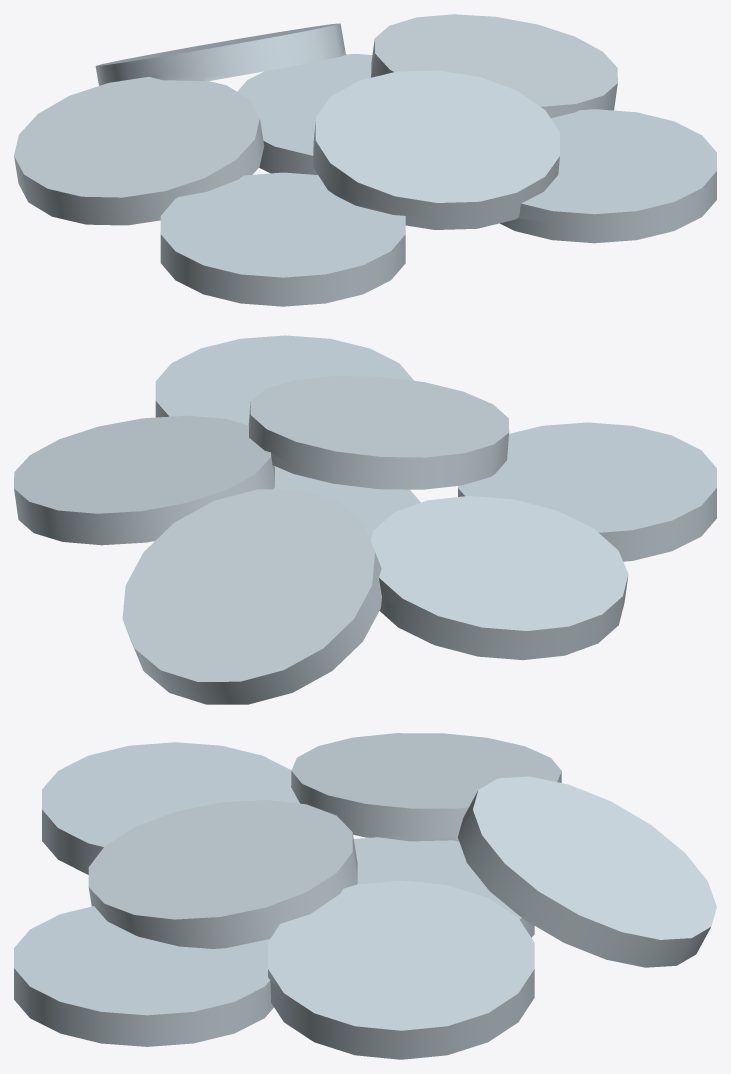
Rendered from Coin Pile.fbx.
The picture shows the model from 3 angles, top to bottom: view 1: azimuth 30°, elevation 25°; view 2: azimuth 150°, elevation 25°; view 3: azimuth 270°, elevation 25°; orthographic projection. The views are drawn at different scales.
Parts seen in each view (by area): view 1: Cylinder038; view 2: Cylinder038; view 3: Cylinder038.
Part boxes in pixels (box(x1,y1,x2,y2)): Cylinder038: box(14, 14, 716, 306); Cylinder038: box(14, 335, 716, 704); Cylinder038: box(14, 733, 716, 1059).
Size of the model in its own units: 14.17 by 2.97 by 14.15.
